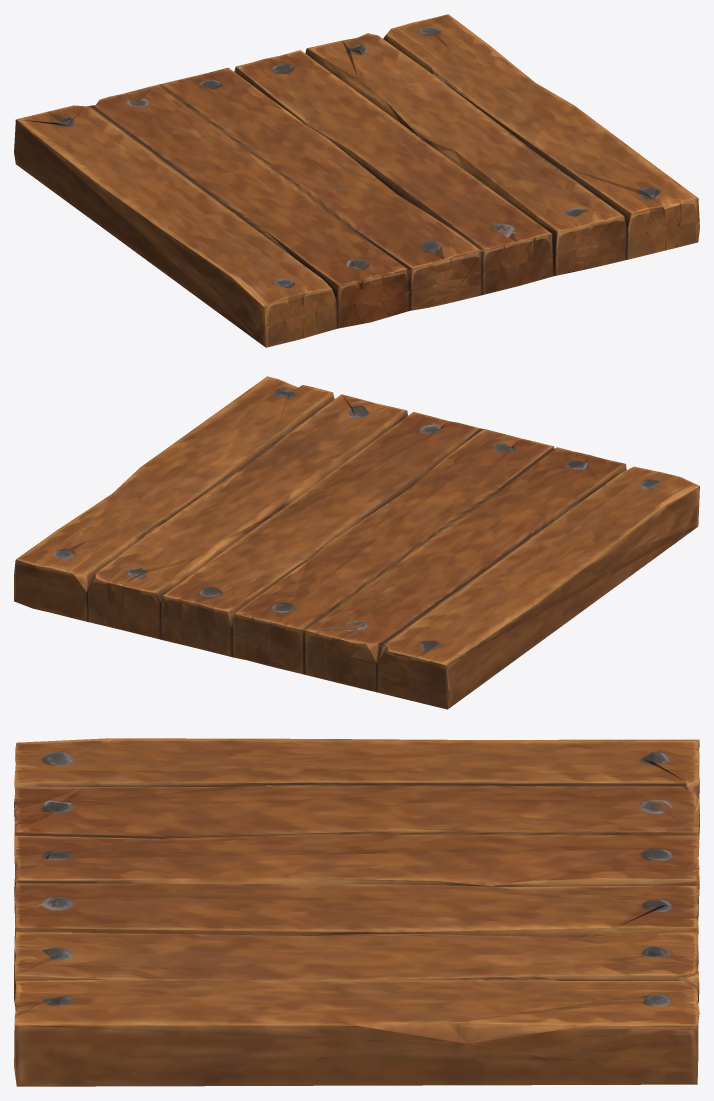
The model's file is TWN_FLR_planks_A.glb.
3 renders of one model, top to bottom at view 1: azimuth 30°, elevation 25°; view 2: azimuth 150°, elevation 25°; view 3: azimuth 270°, elevation 25°, orthographic. The views are drawn at different scales.
Visible parts, largest first — view 1: Mesh_0; view 2: Mesh_0; view 3: Mesh_0.
Part boxes in pixels (x1=…): Mesh_0: x1=14, y1=14, x2=699, y2=347; Mesh_0: x1=14, y1=376, x2=699, y2=709; Mesh_0: x1=14, y1=738, x2=699, y2=1086.
Size of the model in its own units: 1.9 by 0.2045 by 1.9.
Materials: 1 (1 with a texture image).
